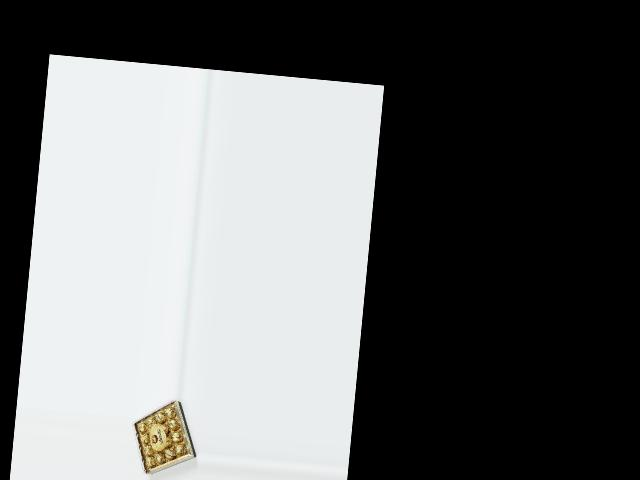chocolate: (127, 395, 203, 479)
